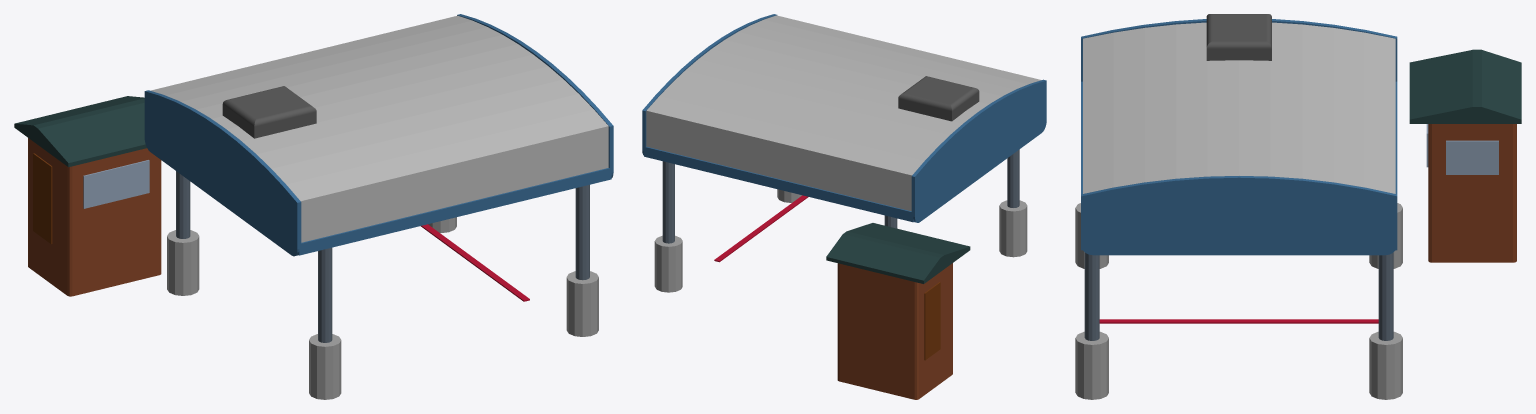
The model's file is lift_station.obj.
3 renders of one model, left to right at view 1: azimuth 30°, elevation 25°; view 2: azimuth 150°, elevation 25°; view 3: azimuth 270°, elevation 25°, orthographic. The views are drawn at different scales.
Size of the model in its own units: 9.9 by 5.74 by 9.56.
